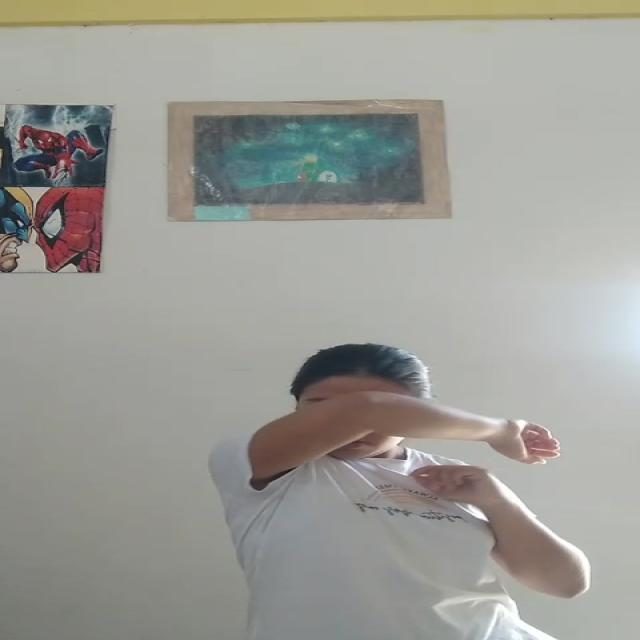7_mano_rostro: (247, 391, 490, 444)
